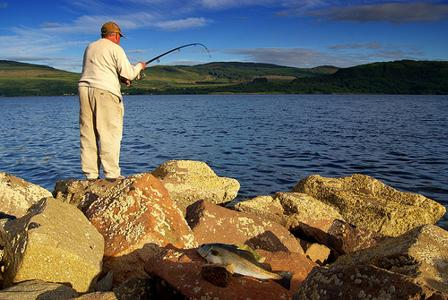person: (77, 22, 145, 181)
